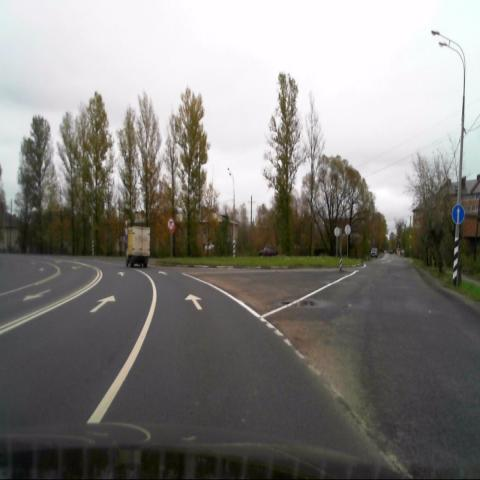4_1_1: (452, 204, 464, 224)
